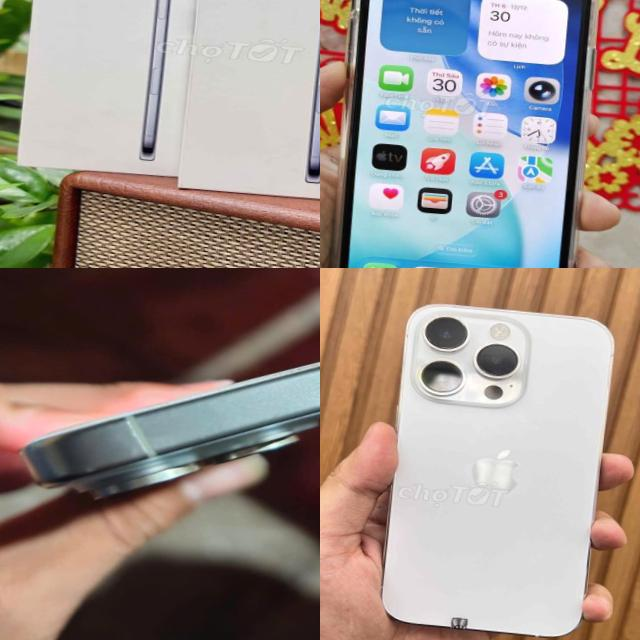scratch: (131, 436, 148, 456), (121, 418, 137, 434), (84, 461, 98, 473)
